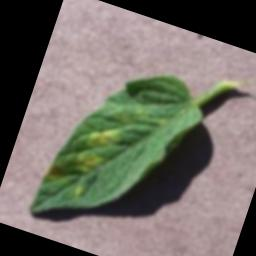Leaf_Mold: (40, 139, 110, 203), (85, 121, 124, 156)
